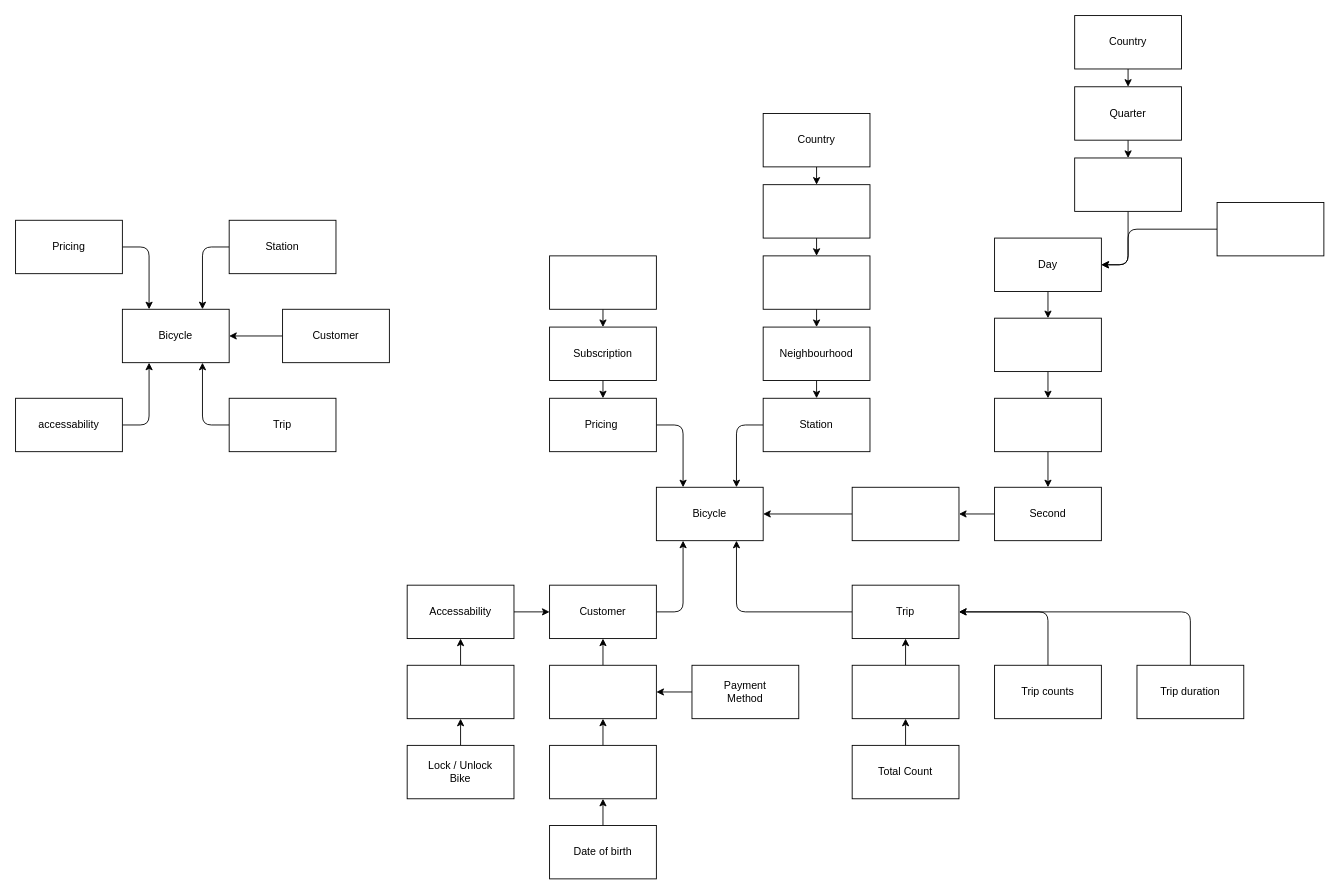
This 1339x894 diagram has some shape labels left out. Here are the shapes that lost their labels. From the top down, the centre of each, then its label:
At [1127,184]: "Month".
At [816,211]: "Region".
At [1270,229]: "Week".
At [602,282]: "Revenue".
At [816,282]: "City".
At [1047,344]: "Hour".
At [1047,424]: "Minute".
At [905,513]: "Time".
At [460,691]: "Mobile App".
At [602,691]: "Account".
At [905,691]: "Total Duration".
At [602,771]: "Name".
